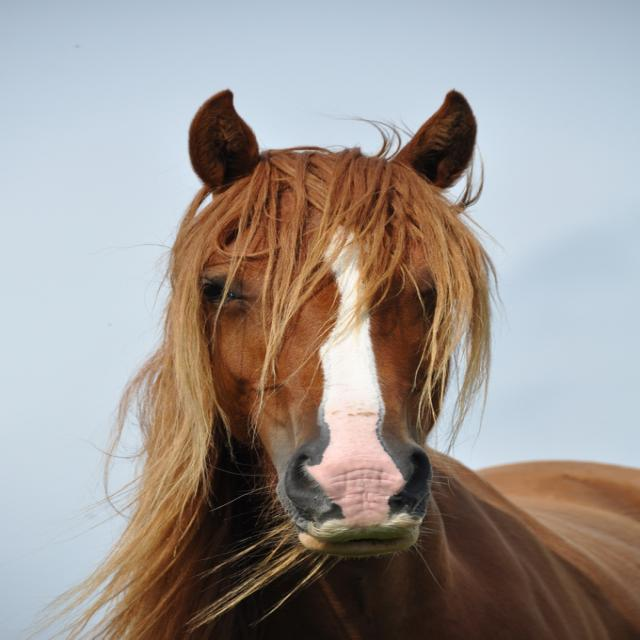Horse: (23, 83, 639, 640)
